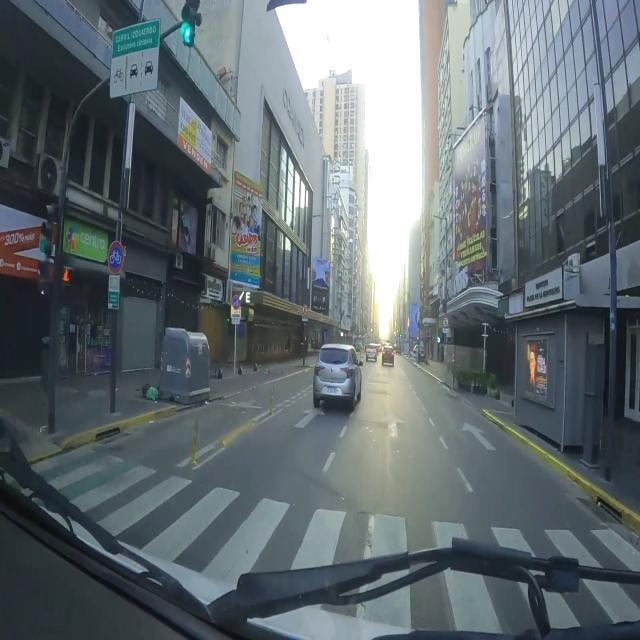car: (313, 344, 362, 409), (381, 345, 394, 366), (365, 344, 377, 362)
